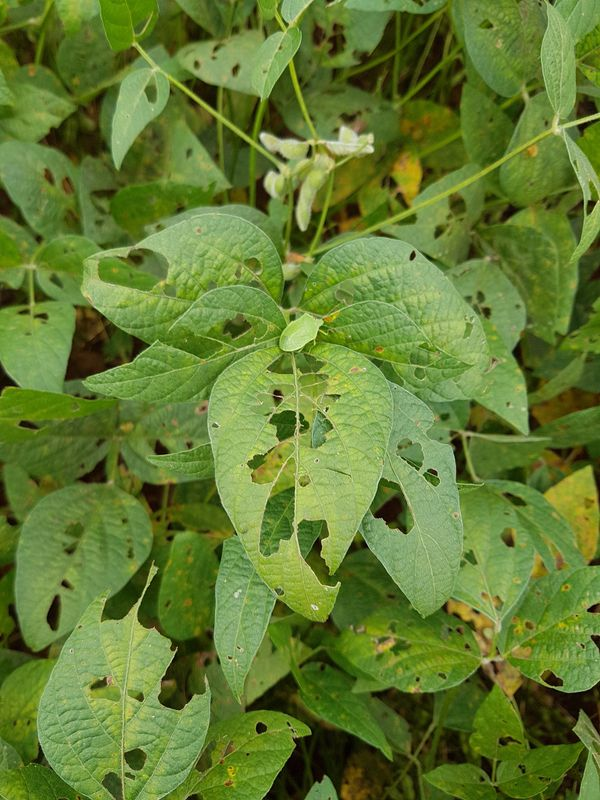Nezara_viridula_adulto: (273, 308, 333, 358)
